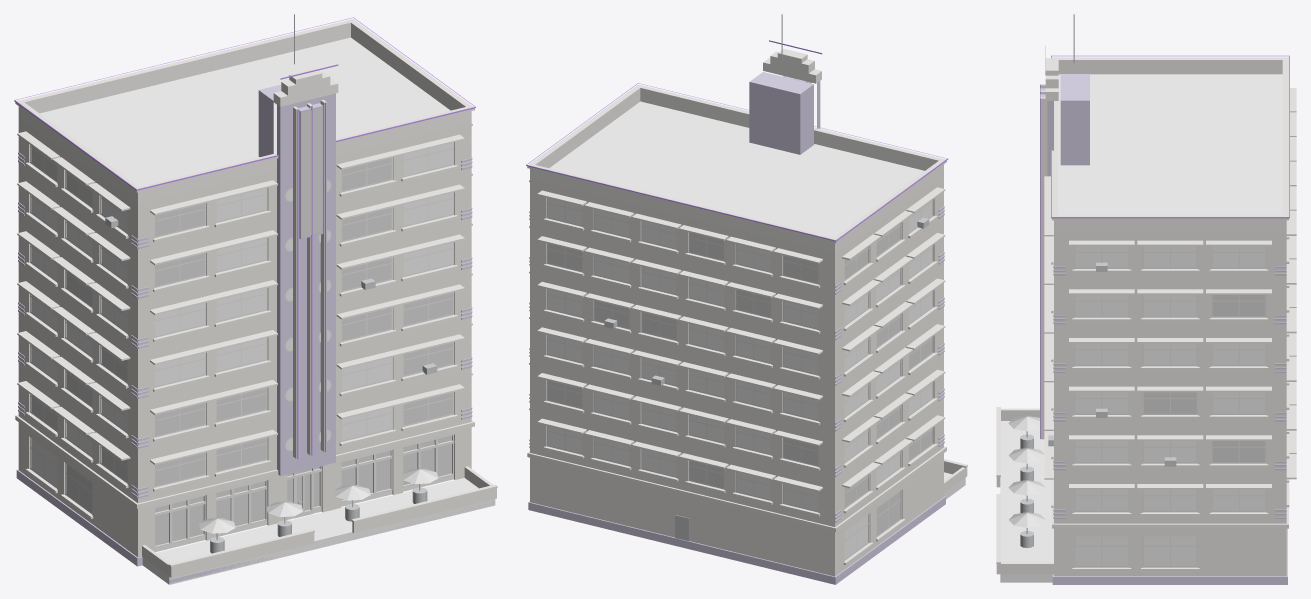
File: deco_w84f6.glb
3 renders of one model, left to right at view 1: azimuth 30°, elevation 25°; view 2: azimuth 150°, elevation 25°; view 3: azimuth 270°, elevation 25°, orthographic. The views are drawn at different scales.
Visible parts, largest first — view 1: deco_w84f6_Walls, deco_w84f6_Trim, deco_w84f6_Roof, deco_w84f6_WindowsLit, deco_w84f6_Glass, deco_w84f6_Accent, deco_w84f6_Frames, deco_w84f6_Walls2, deco_w84f6_Neon, deco_w84f6_Brand, deco_w84f6_Awning, deco_w84f6_Details; view 2: deco_w84f6_Walls, deco_w84f6_Trim, deco_w84f6_Roof, deco_w84f6_Glass, deco_w84f6_WindowsLit, deco_w84f6_Frames, deco_w84f6_Accent, deco_w84f6_Neon, deco_w84f6_Details; view 3: deco_w84f6_Walls, deco_w84f6_Trim, deco_w84f6_Roof, deco_w84f6_Glass, deco_w84f6_Accent, deco_w84f6_Frames, deco_w84f6_Walls2, deco_w84f6_WindowsLit, deco_w84f6_Awning, deco_w84f6_Neon, deco_w84f6_Details.
Part boxes in pixels (x1,y1,x2,y2): deco_w84f6_Walls: (18,117,496,577); deco_w84f6_Trim: (15,19,497,567); deco_w84f6_Roof: (40,37,450,186); deco_w84f6_WindowsLit: (31,145,453,545); deco_w84f6_Glass: (31,143,453,486); deco_w84f6_Accent: (16,84,494,583); deco_w84f6_Frames: (30,142,454,547); deco_w84f6_Walls2: (142,478,495,584); deco_w84f6_Neon: (14,17,475,458); deco_w84f6_Brand: (302,108,321,237); deco_w84f6_Awning: (199,468,438,533); deco_w84f6_Details: (105,14,437,553); deco_w84f6_Walls: (530,174,967,576); deco_w84f6_Trim: (527,48,967,564); deco_w84f6_Roof: (549,101,924,237); deco_w84f6_Glass: (548,198,932,559); deco_w84f6_WindowsLit: (548,223,932,535); deco_w84f6_Frames: (547,197,933,560); deco_w84f6_Accent: (528,72,945,584); deco_w84f6_Neon: (526,40,948,241); deco_w84f6_Details: (604,14,929,541); deco_w84f6_Walls: (996,231,1286,576); deco_w84f6_Trim: (996,57,1296,571); deco_w84f6_Roof: (1058,74,1282,215); deco_w84f6_Glass: (1075,246,1265,565); deco_w84f6_Accent: (1040,74,1287,584); deco_w84f6_Frames: (1074,246,1266,567); deco_w84f6_Walls2: (1000,421,1053,582); deco_w84f6_WindowsLit: (1144,295,1265,462); deco_w84f6_Awning: (1008,415,1045,527); deco_w84f6_Neon: (1040,46,1289,438); deco_w84f6_Details: (1020,14,1176,547).
Bounding box in the file's own units: 88.4 × 121 × 67.1.
